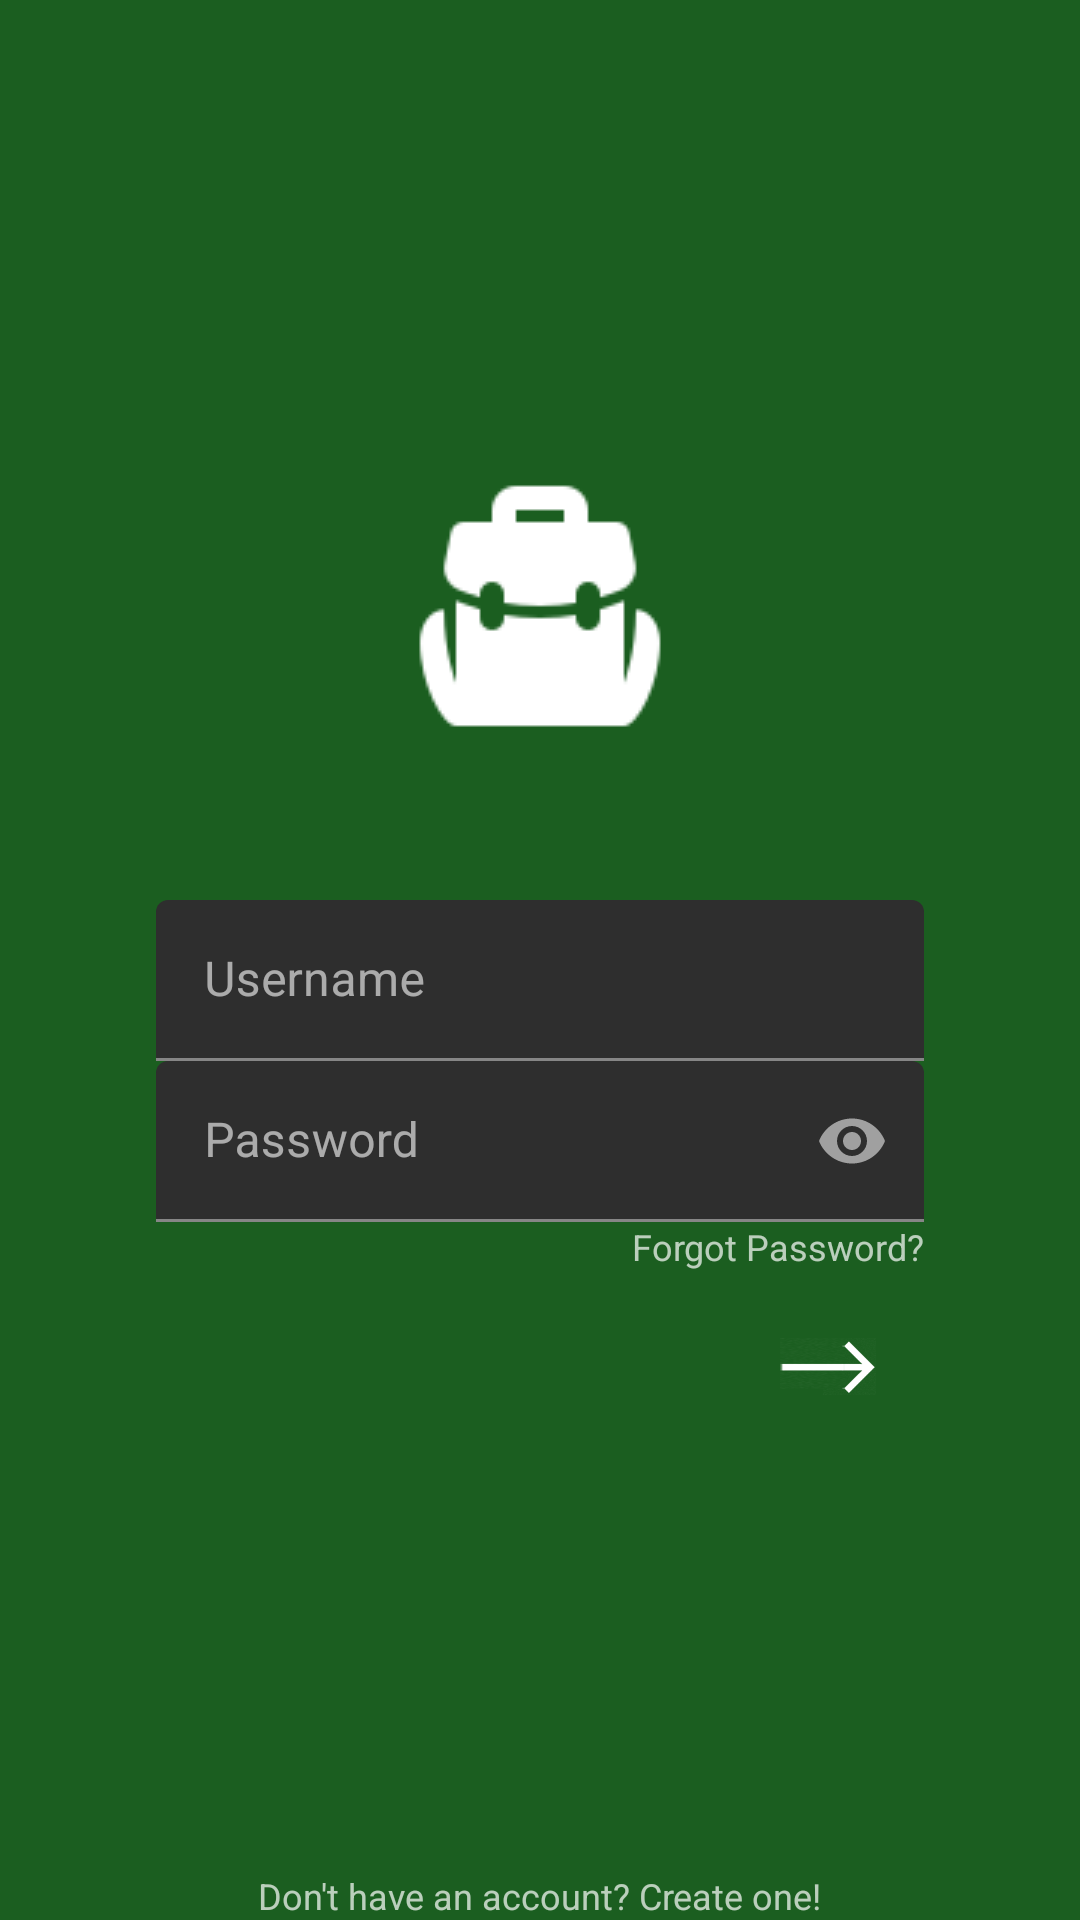

Icon bounding boxes for this 1080px×1920px phone screenshot, format (x1, y1, x2, y2):
next: (780, 1341, 875, 1393)
